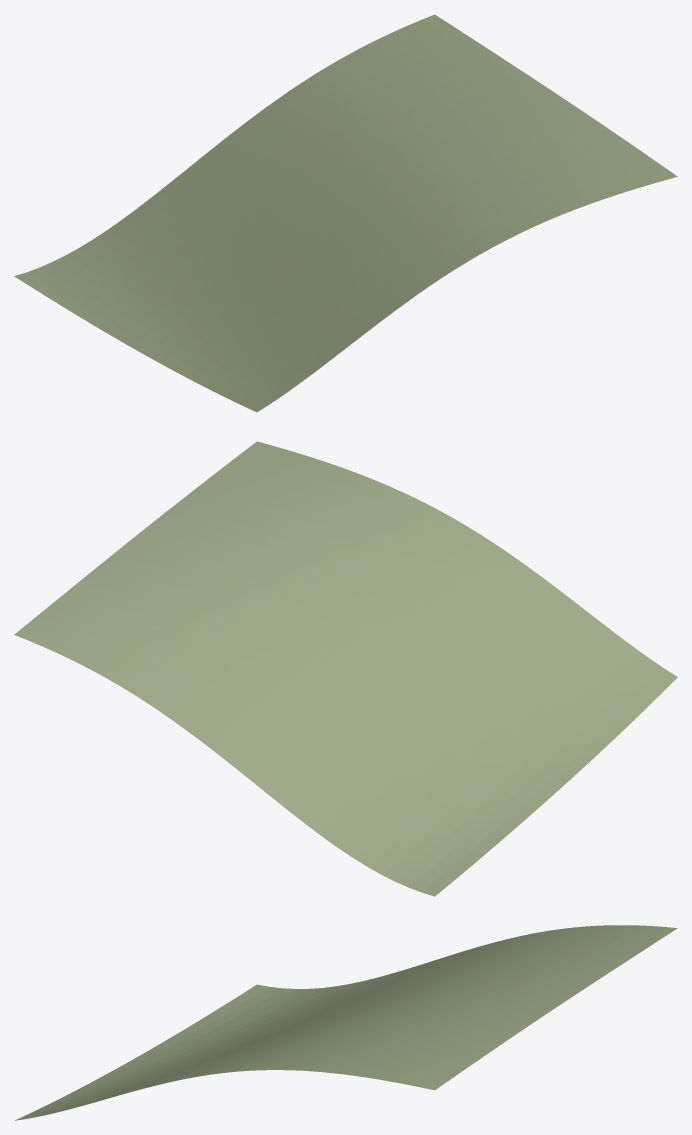
The model's file is expanse-16-4.glb.
3 views of the same model, one above another, from view 1: azimuth 30°, elevation 25°; view 2: azimuth 150°, elevation 25°; view 3: azimuth 330°, elevation 25° (orthographic).
Visible parts, largest first — view 1: expanse-16-4; view 2: expanse-16-4; view 3: expanse-16-4.
Part boxes in pixels (<box>): expanse-16-4: <box>14,14,677,412</box>; expanse-16-4: <box>14,441,677,896</box>; expanse-16-4: <box>15,925,677,1120</box>.
Bounding box in the file's own units: 256 × 102 × 256.
